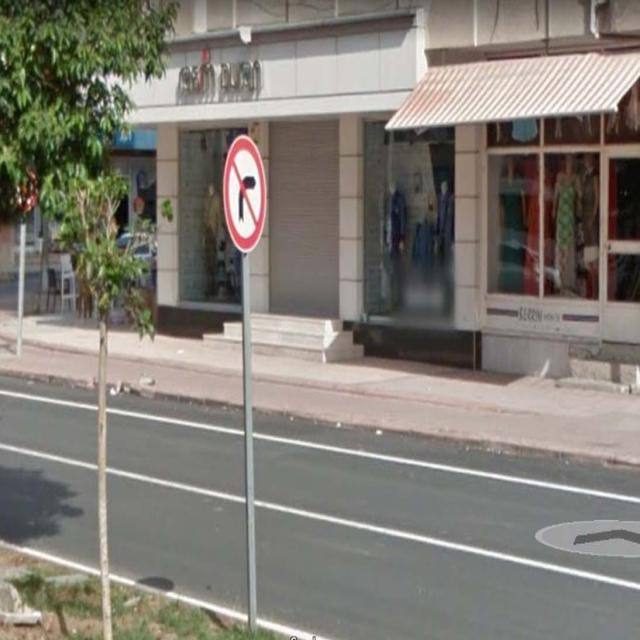sagadonulmez: (222, 132, 266, 254)
